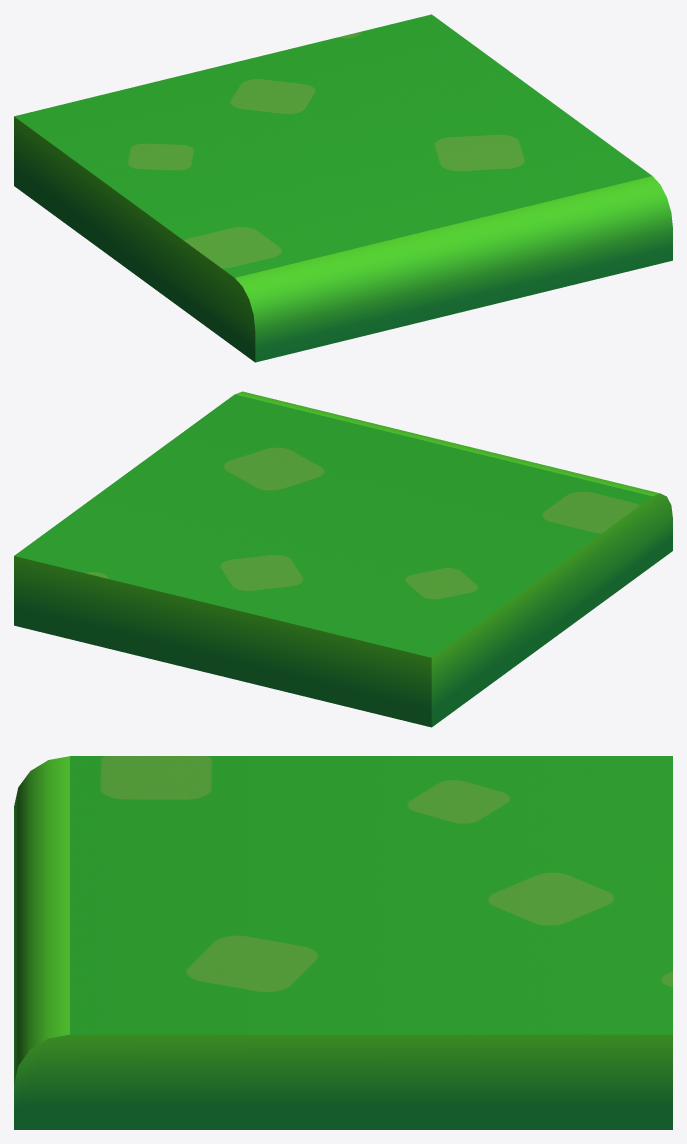
Rendered from GrassFloor_Edge_1.glb.
3 views of the same model, one above another, from view 1: azimuth 30°, elevation 25°; view 2: azimuth 150°, elevation 25°; view 3: azimuth 270°, elevation 25° (orthographic). The views are drawn at different scales.
Parts seen in each view (by area): view 1: GrassFloor_Edge_1; view 2: GrassFloor_Edge_1; view 3: GrassFloor_Edge_1.
Part boxes in pixels (<box>): GrassFloor_Edge_1: <box>14,14,672,362</box>; GrassFloor_Edge_1: <box>14,391,672,727</box>; GrassFloor_Edge_1: <box>14,756,672,1129</box>.
Size of the model in its own units: 2 by 0.3187 by 2.
2 materials, 2 textured.
